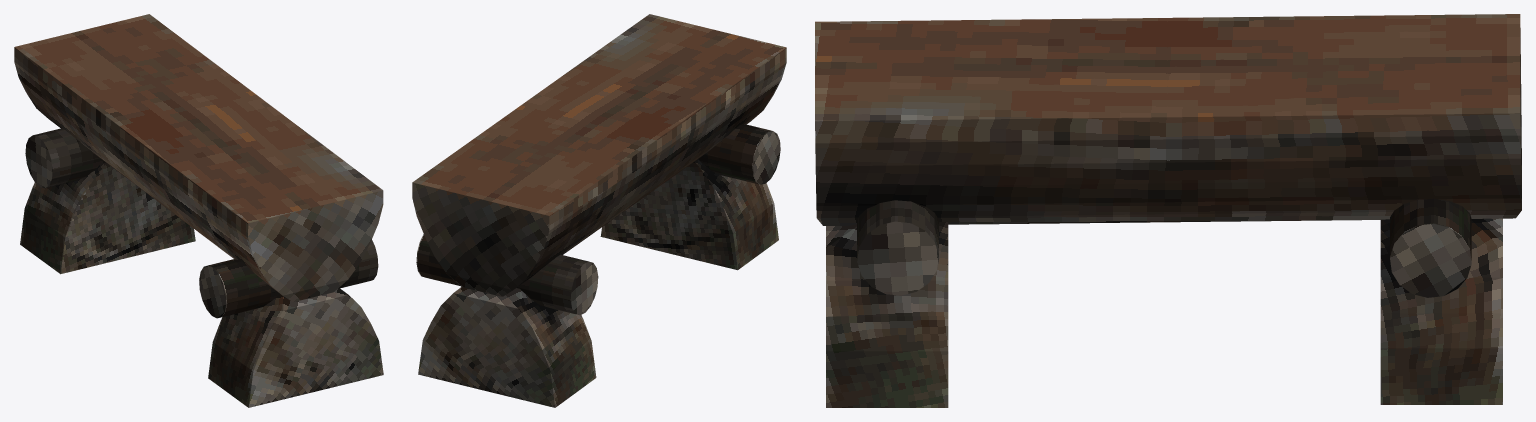
The model's file is massive_bench_01.glb.
3 views of the same model, side by side, from view 1: azimuth 30°, elevation 25°; view 2: azimuth 150°, elevation 25°; view 3: azimuth 270°, elevation 25° (orthographic). The views are drawn at different scales.
Parts seen in each view (by area): view 1: massive_bench_01; view 2: massive_bench_01; view 3: massive_bench_01.
Part boxes in pixels (left/top/right/bottom): massive_bench_01: left=14, top=14, right=383, bottom=407; massive_bench_01: left=412, top=14, right=786, bottom=407; massive_bench_01: left=815, top=14, right=1521, bottom=407.
Bounding box in the file's own units: 1.68 × 2 × 4.39.
1 material, 1 textured.
